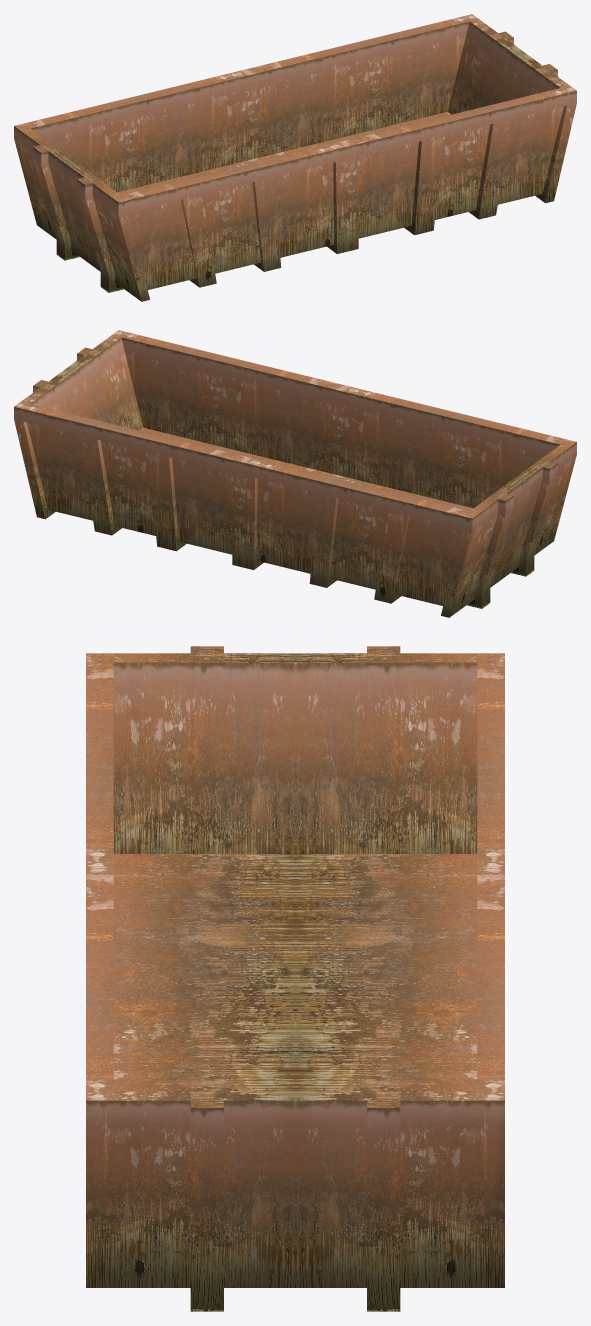
The model's file is garbage_container_lod0.fbx.
The picture shows the model from 3 angles, top to bottom: view 1: azimuth 30°, elevation 25°; view 2: azimuth 150°, elevation 25°; view 3: azimuth 270°, elevation 25°; orthographic projection. The views are drawn at different scales.
Parts seen in each view (by area): view 1: Mesh Object; view 2: Mesh Object; view 3: Mesh Object.
Part boxes in pixels (x1,y1,x2,y2): Mesh Object: [14, 14, 576, 301]; Mesh Object: [14, 330, 576, 617]; Mesh Object: [86, 646, 504, 1311].
Size of the model in its own units: 9.9 by 2.27 by 3.8.
